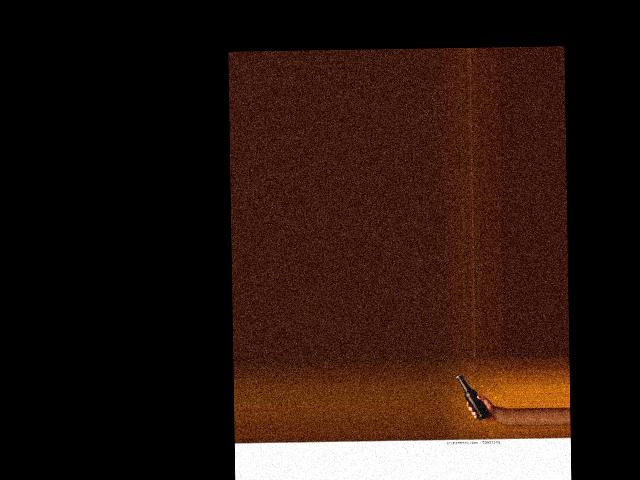beer: (456, 373, 491, 420)
